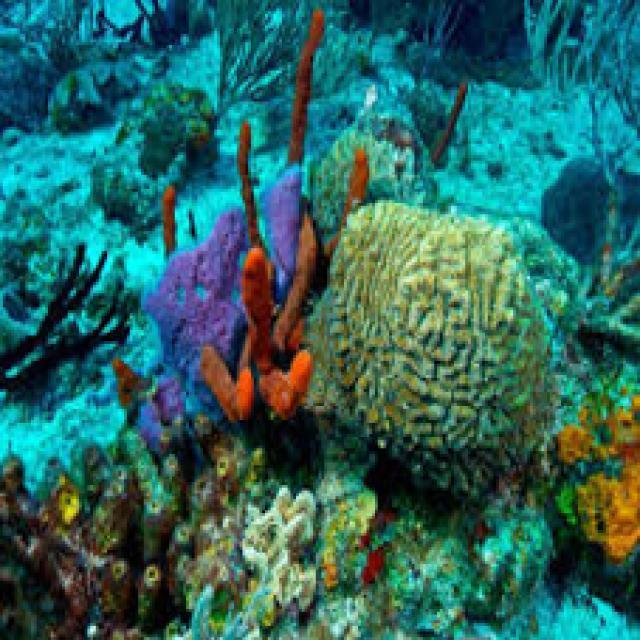Healthy: (326, 194, 545, 479), (563, 402, 640, 562), (156, 246, 215, 386), (285, 12, 325, 165), (205, 212, 243, 346), (280, 222, 316, 340), (240, 251, 274, 373), (259, 352, 314, 419), (265, 164, 299, 266), (207, 345, 255, 415), (158, 183, 181, 248), (343, 153, 368, 209)
